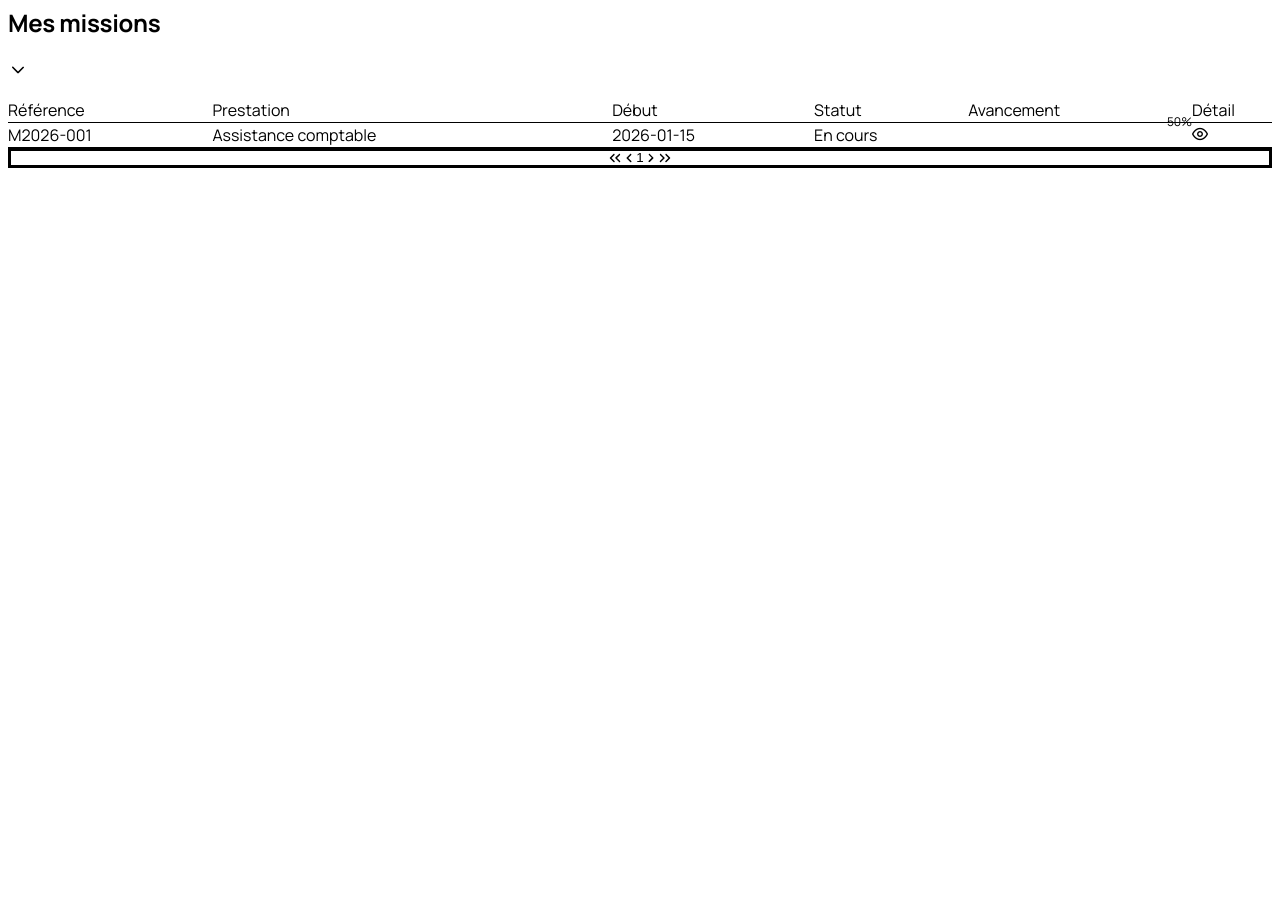
Test case: PortailMissionsPage › affiche un message quand la mission ne comporte aucune tache
Click the button named "Voir le détail de la mission M2026-001" at [1200, 134], box x1=1192 y1=123 x2=1208 y2=145
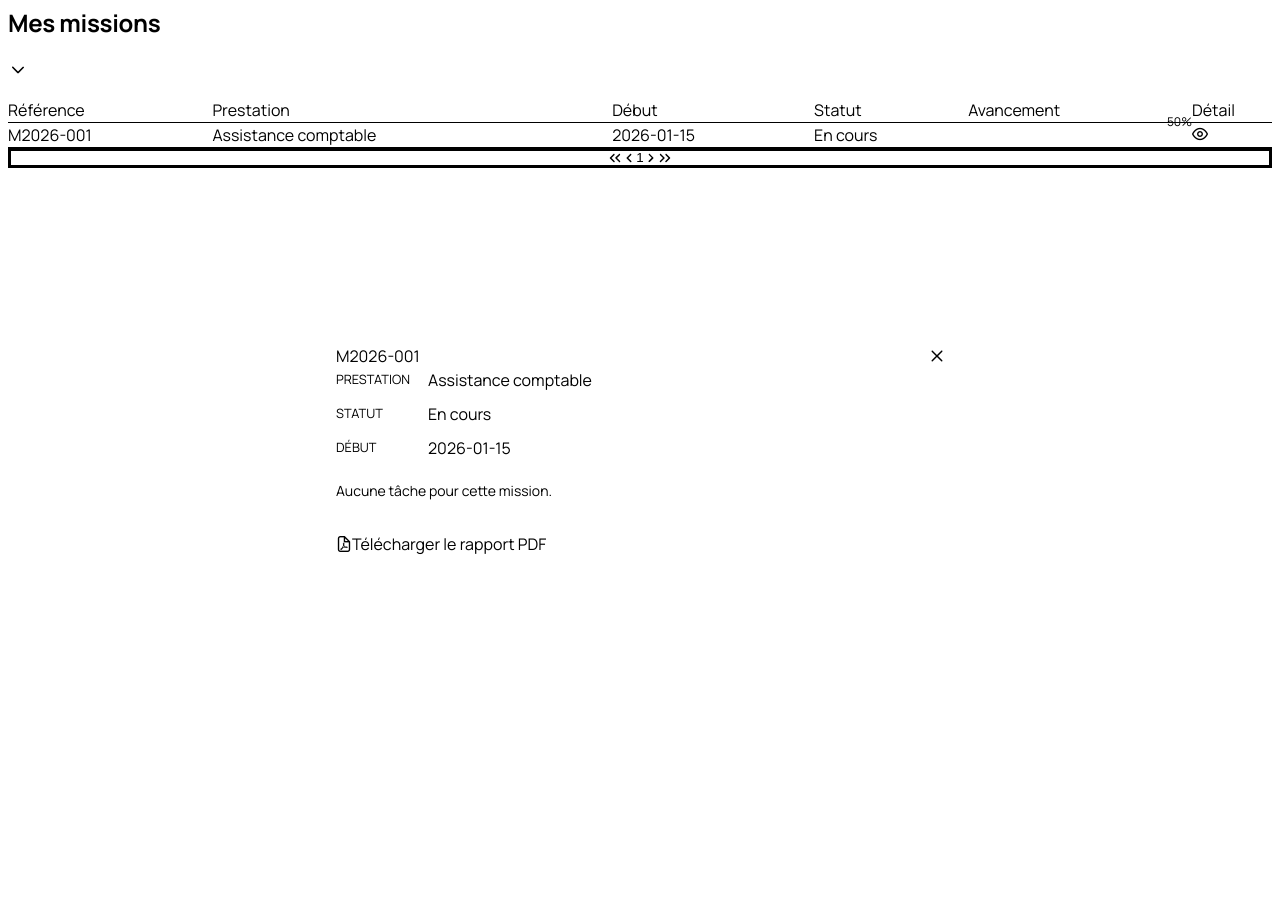
Check: the text "Aucune tâche pour cette mission." is shown, box x1=336 y1=480 x2=552 y2=500
